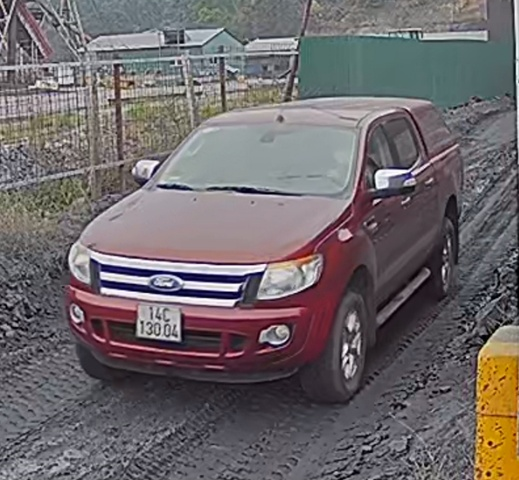vehicle plate: (132, 295, 186, 346)
